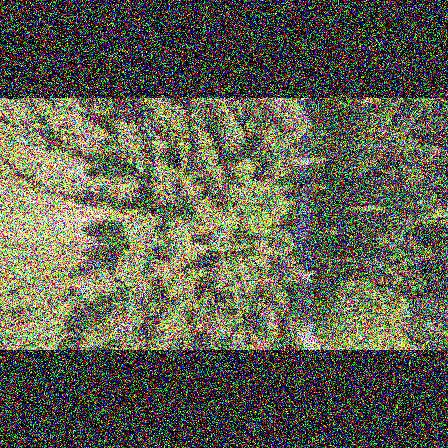Sick: (205, 224, 236, 253), (70, 277, 102, 304), (204, 317, 234, 344), (255, 270, 279, 291)
